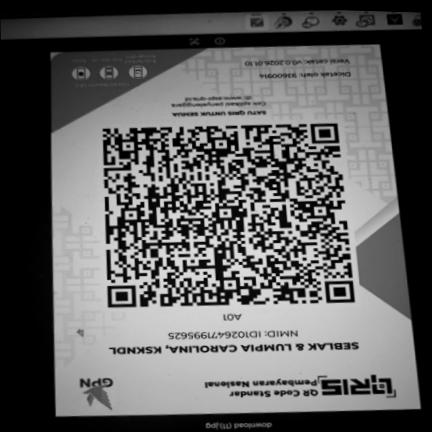Cara Pakai QRIS: (54, 51, 165, 91)
Cek Aplikasi Penyelenggara: (168, 94, 270, 110)
Dicetak Oleh: (252, 69, 357, 81)
Logo GPN: (71, 372, 125, 414)
Logo dan deskripsi QRIS: (194, 371, 407, 409)
Nama Merchant: (105, 339, 367, 359)
National Merchant ID: (163, 327, 303, 342)
QR Code: (91, 119, 362, 310)
Slogan: (169, 109, 271, 120)
Terminal ID: (215, 311, 247, 324)
Versi Cetak: (240, 56, 356, 70)
